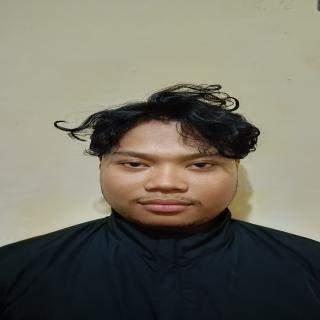Netral: (94, 109, 242, 233)
